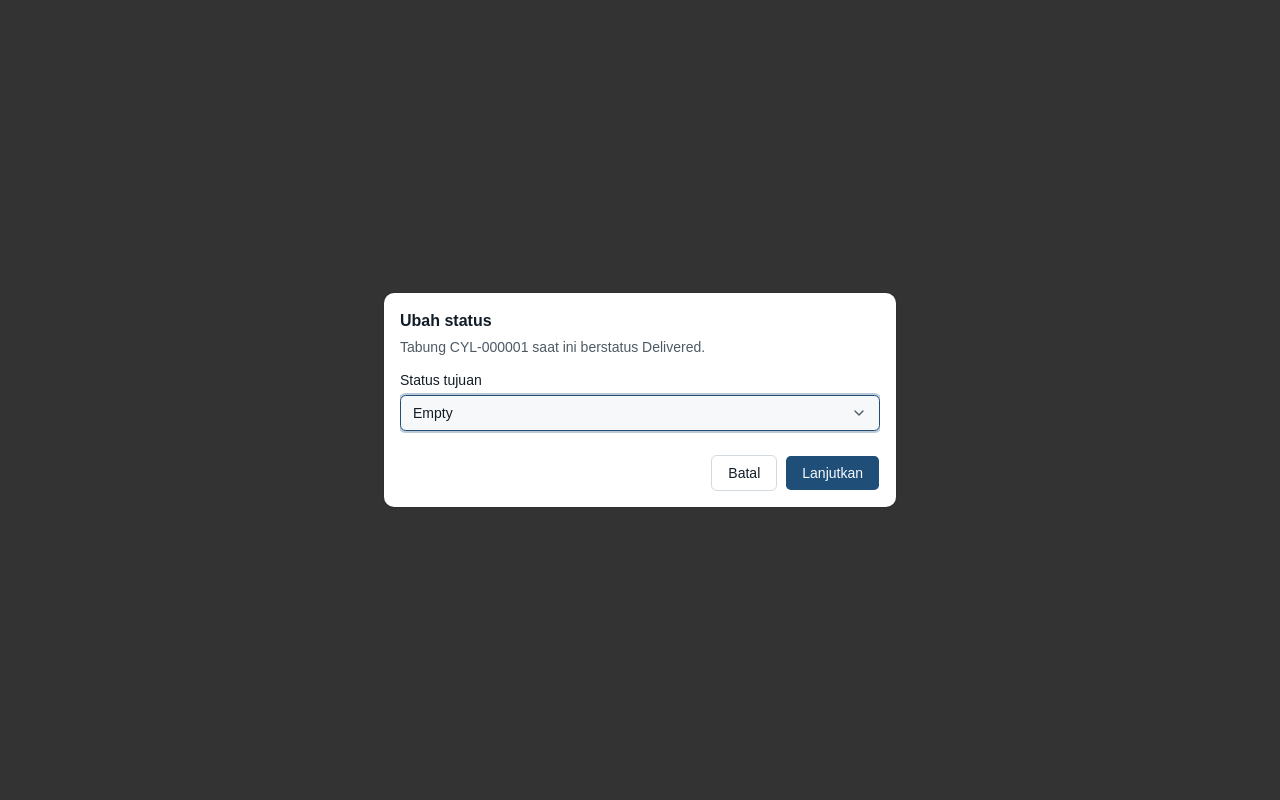
Test: StatusChangeDialog › menampilkan pelanggan yang dikosongkan saat tujuan bukan Delivered
Click the dropdown named "Status tujuan" at (433, 413), box left=400, top=395, right=880, bottom=431
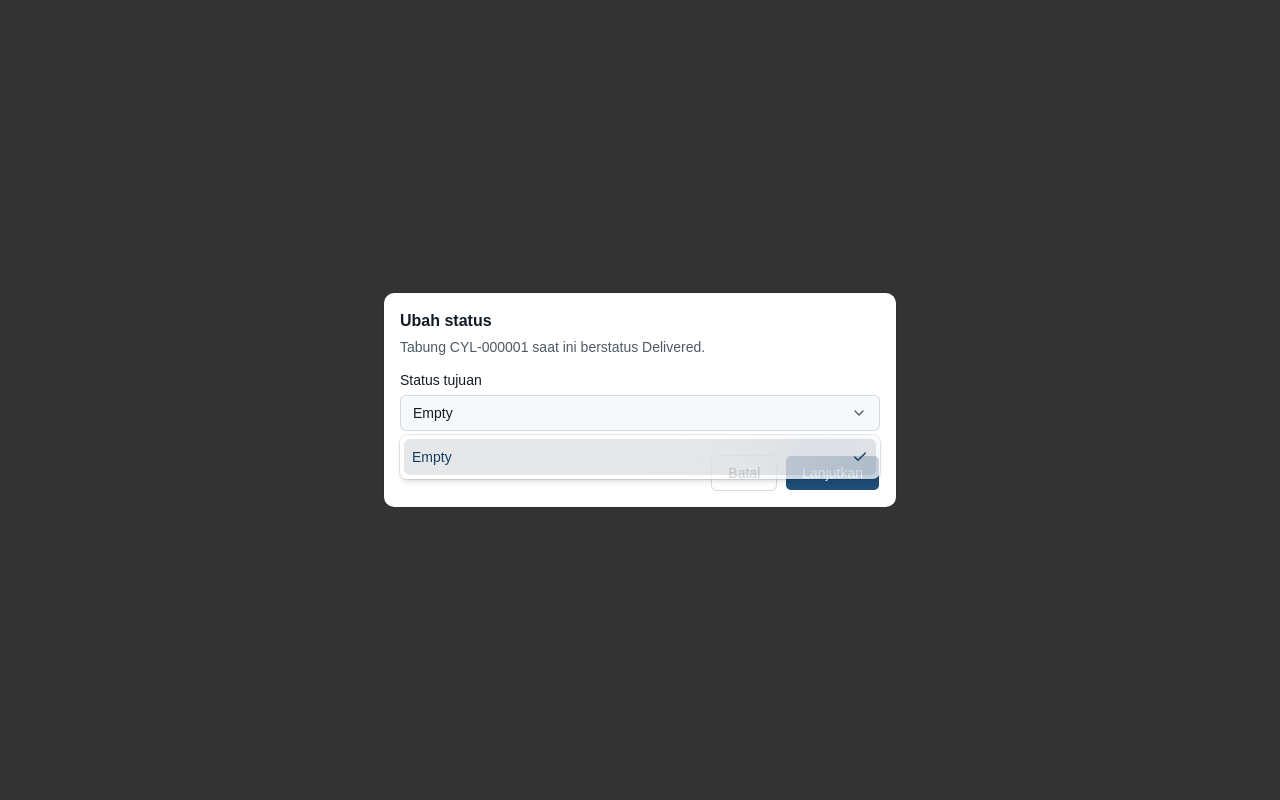
Click the option "Empty" at (432, 457), box left=404, top=439, right=876, bottom=475
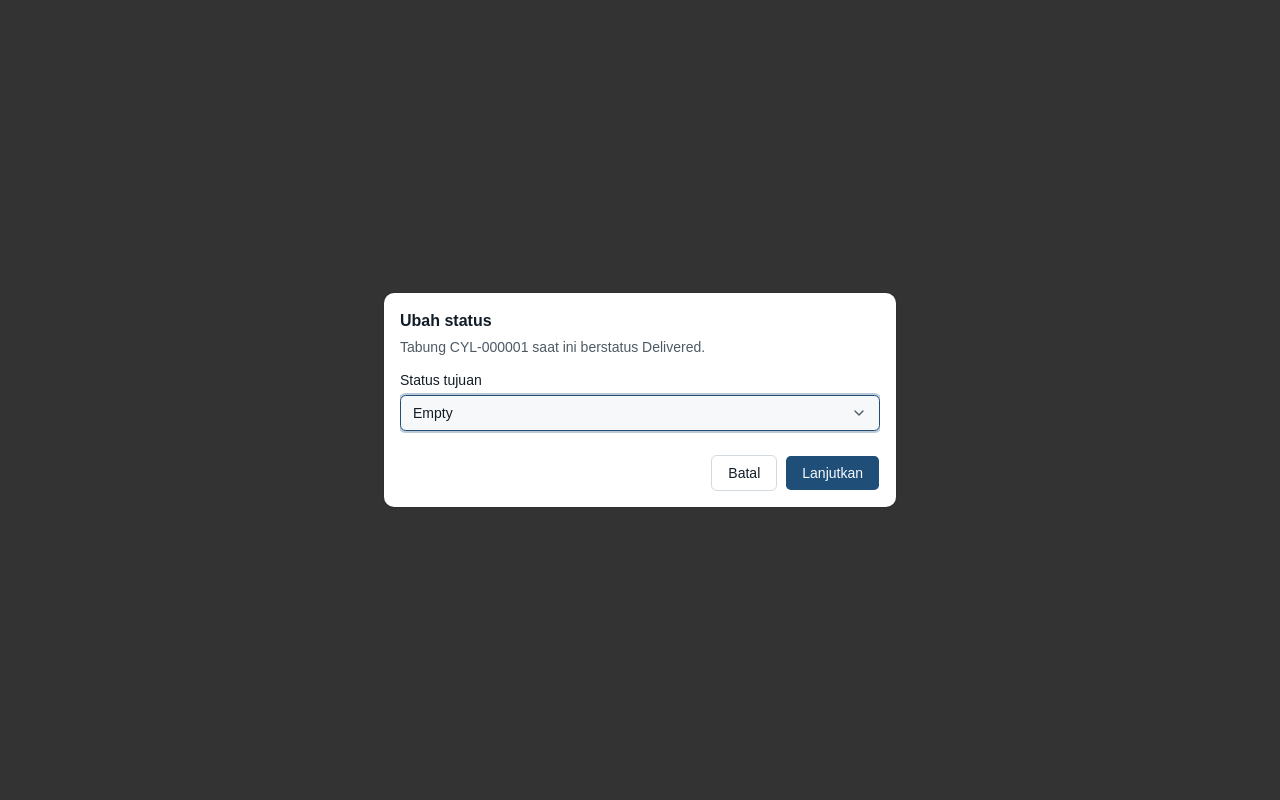
Click the button "Lanjutkan" at (833, 473), box left=785, top=455, right=880, bottom=491
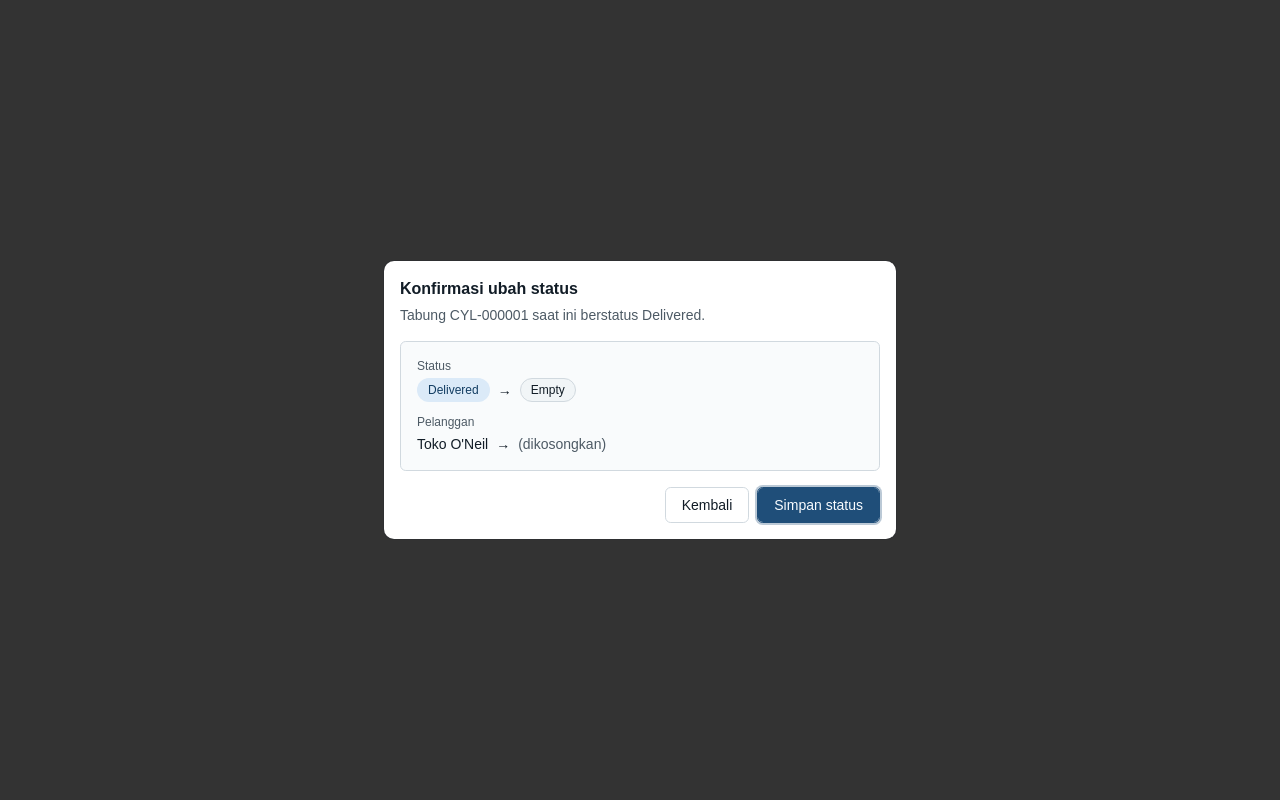
Check: the heading "Konfirmasi ubah status" is shown, box left=400, top=280, right=578, bottom=297
Check: the text "Toko O'Neil" is shown, box left=417, top=434, right=488, bottom=454
Check: the text "(dikosongkan)" is shown, box left=518, top=434, right=606, bottom=454
